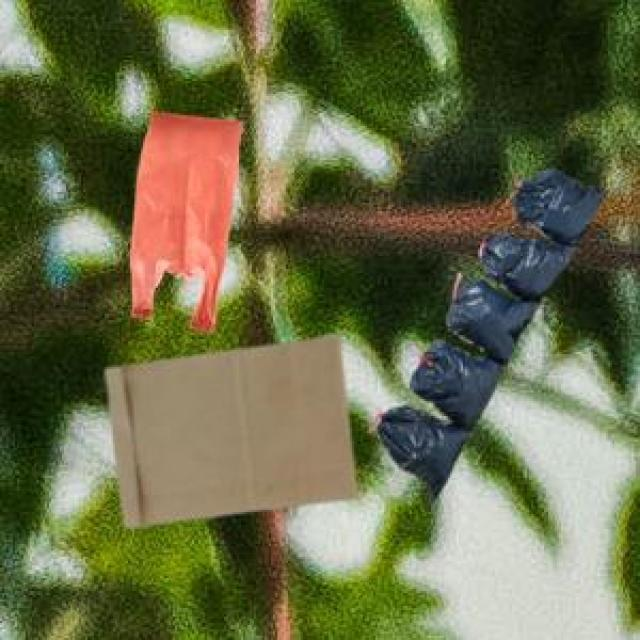miscellaneous trash: (373, 166, 600, 499)
paper: (102, 333, 354, 523)
